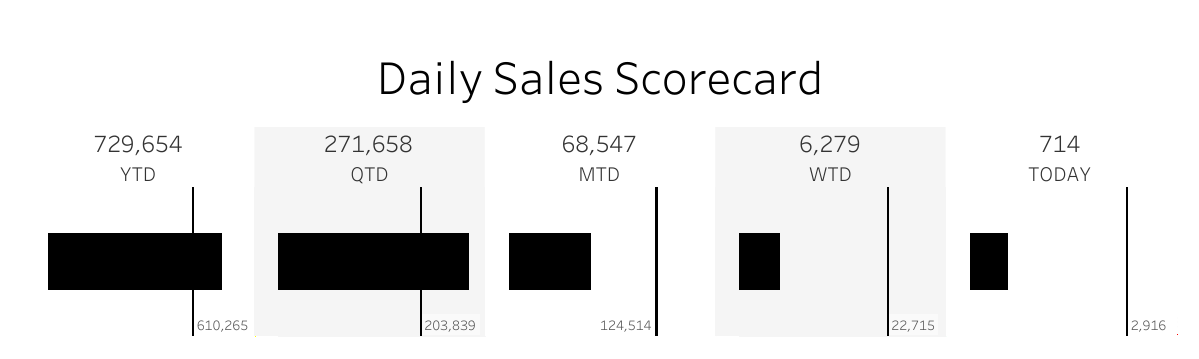

This screenshot's page, from the dashboard's own definition file:
{"tool":"tableau","page":{"name":"Dashboard 1","canvas":[1000,300],"ordinal":0},"visuals":[{"type":"text","box":[20,20,960,86]},{"type":"worksheet","title":"Big Number","mark":"Automatic","box":[20,106,960,73]},{"type":"worksheet","title":"YTD","mark":"Automatic","rows":["Calculation_1084804597913169929"],"cols":["Calculation_1084804597908406276"],"box":[20,179,192,101]},{"type":"worksheet","title":"QTD","mark":"Automatic","rows":["Calculation_1084804597913169929"],"cols":["Calculation_1084804597907005442"],"box":[212,179,192,101]},{"type":"worksheet","title":"MTD","mark":"Automatic","rows":["Calculation_1084804597913169929"],"cols":["QTD (copy)_1084804597908041731"],"box":[404,179,192,101]},{"type":"worksheet","title":"WTD","mark":"Automatic","rows":["Calculation_1084804597913169929"],"cols":["MTD (copy)_1084804597909135365"],"box":[596,179,192,101]},{"type":"worksheet","title":"Today","mark":"Automatic","rows":["Calculation_1084804597913169929"],"cols":["Calculation_1084804597909368838"],"box":[788,179,192,101]}]}

Visuals, with their boxes in screenshot pixels (x1, y1, x2, y2), scaled from the page's 1000x300 canvas onto the 1199x359 screenshot:
text: select_region(24, 24, 1175, 127)
"Big Number" worksheet: select_region(24, 127, 1175, 214)
"YTD" worksheet: select_region(24, 214, 254, 335)
"QTD" worksheet: select_region(254, 214, 484, 335)
"MTD" worksheet: select_region(484, 214, 715, 335)
"WTD" worksheet: select_region(715, 214, 945, 335)
"Today" worksheet: select_region(945, 214, 1175, 335)
